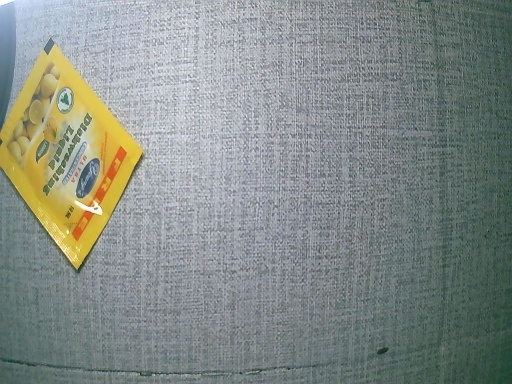plastic: (1, 34, 142, 268)
